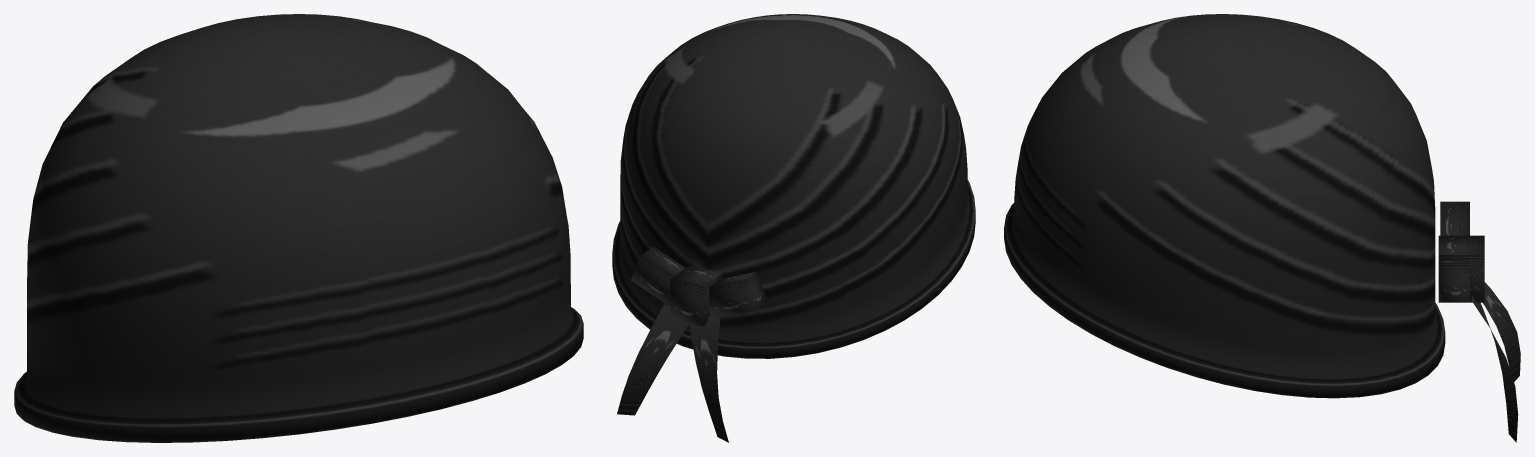
Rendered from acc_Bandana.fbx.
The picture shows the model from 3 angles, left to right: view 1: azimuth 30°, elevation 25°; view 2: azimuth 150°, elevation 25°; view 3: azimuth 270°, elevation 25°; orthographic projection. The views are drawn at different scales.
Visible parts, largest first — view 1: Acc_Bandana; view 2: Acc_Bandana; view 3: Acc_Bandana.
Part boxes in pixels (x1,y1,x2,y2): Acc_Bandana: (14, 14, 583, 442); Acc_Bandana: (612, 14, 975, 442); Acc_Bandana: (1004, 14, 1520, 442).
Bounding box in the file's own units: 134 × 121 × 157.
Materials: 1 (1 with a texture image).
